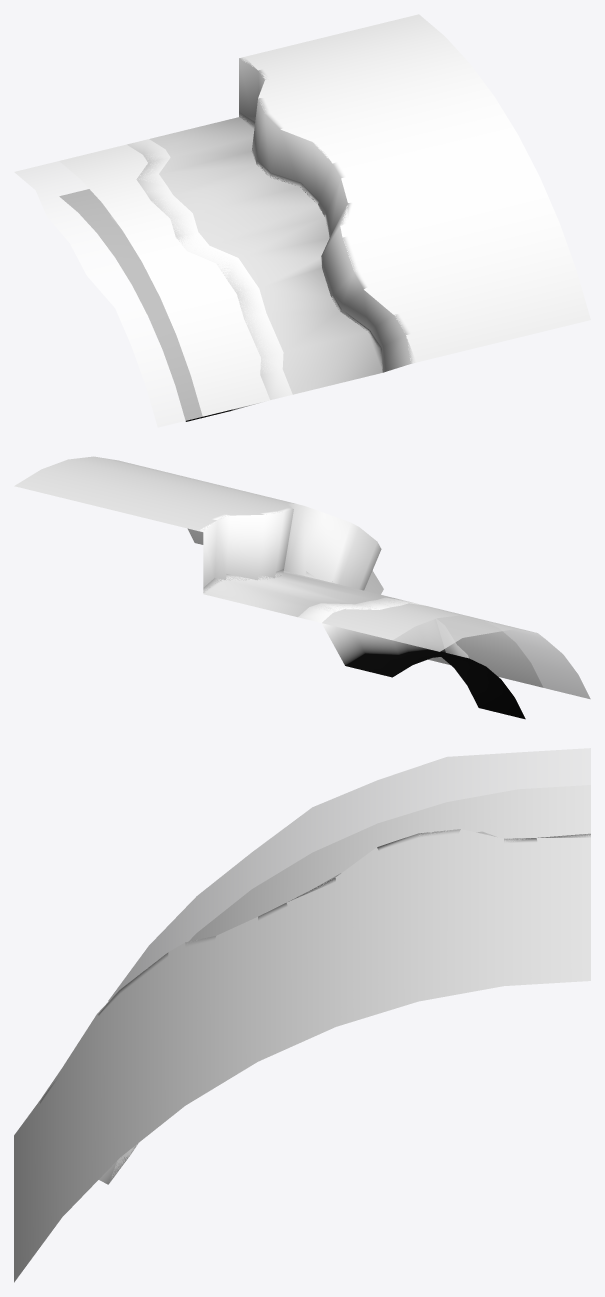
Rendered from grd_Mw_1.dae.
3 views of the same model, one above another, from view 1: azimuth 30°, elevation 25°; view 2: azimuth 150°, elevation 25°; view 3: azimuth 270°, elevation 25° (orthographic). The views are drawn at different scales.
Visible parts, largest first — view 1: grass_3_0, beach_0_0, wave_5_0, ocean_4_0, beach_1_0, cliff_2_0; view 2: cliff_2_0, grass_3_0, beach_1_0, wave_5_0, ocean_4_0, beach_0_0; view 3: grass_3_0, wave_5_0, ocean_4_0, cliff_2_0.
Boxes of the visible parts, <box> form: grass_3_0: <box>242,14,590,362</box>; beach_0_0: <box>149,111,382,394</box>; wave_5_0: <box>14,146,283,427</box>; ocean_4_0: <box>59,144,269,416</box>; beach_1_0: <box>60,139,292,421</box>; cliff_2_0: <box>239,57,416,372</box>; cliff_2_0: <box>198,503,383,594</box>; grass_3_0: <box>14,456,294,544</box>; beach_1_0: <box>298,597,525,719</box>; wave_5_0: <box>310,598,590,699</box>; ocean_4_0: <box>322,603,543,687</box>; beach_0_0: <box>203,569,448,664</box>; grass_3_0: <box>14,829,590,1282</box>; wave_5_0: <box>108,748,590,1001</box>; ocean_4_0: <box>189,785,590,941</box>; cliff_2_0: <box>14,829,590,1181</box>.
Bounding box in the file's own units: 591 × 308 × 423.
6 materials, 1 textured.
